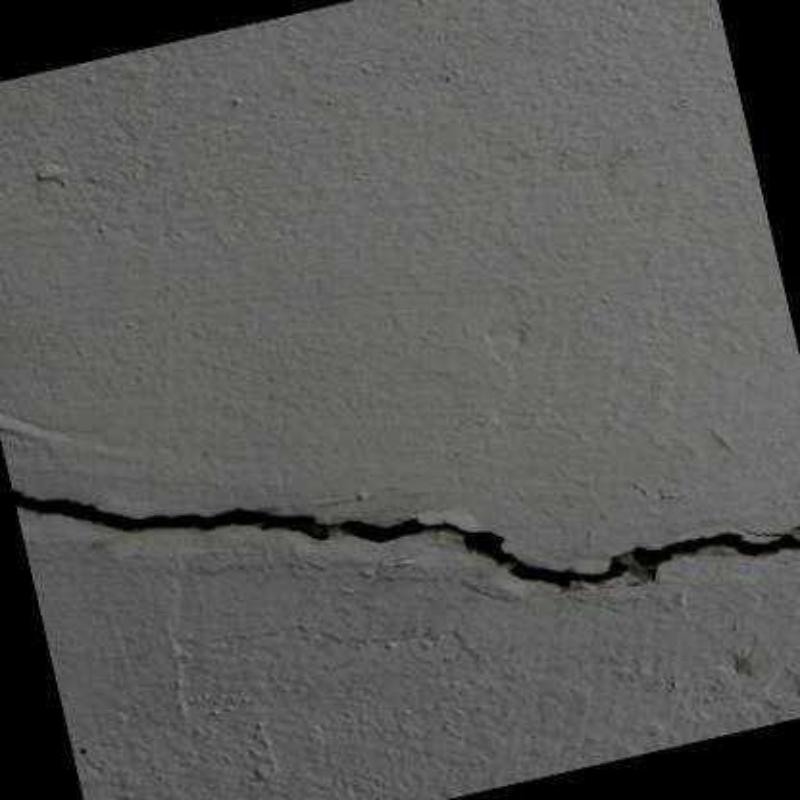pothole: (15, 484, 800, 595)
